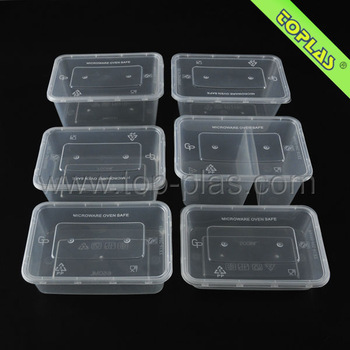PlasticBox: (177, 200, 332, 294)
